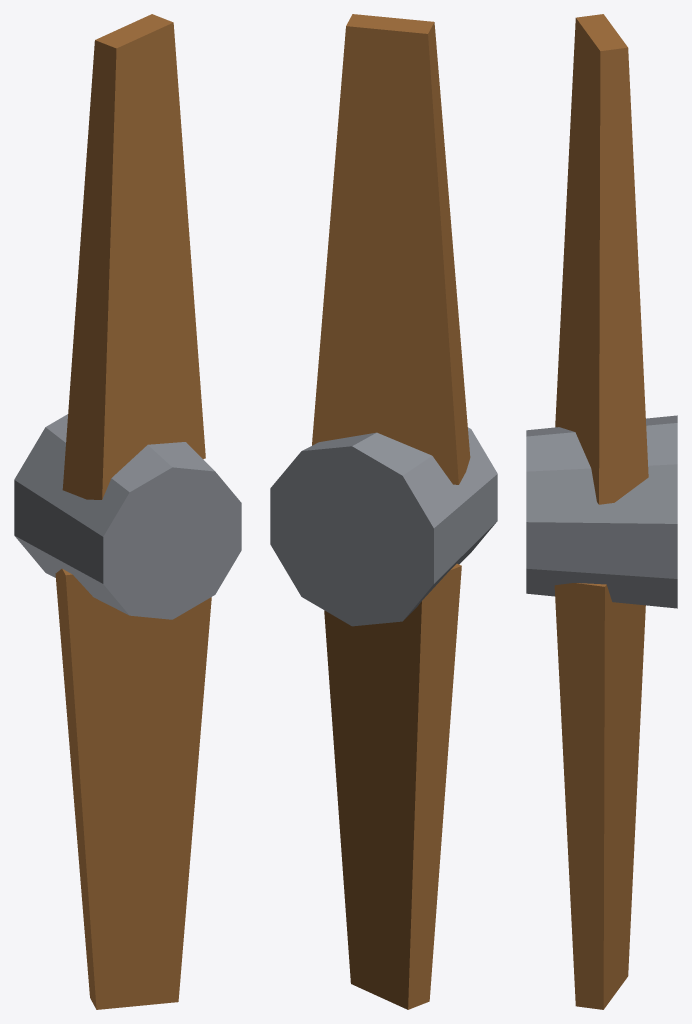
File: propeller.glb
3 renders of one model, left to right at view 1: azimuth 30°, elevation 25°; view 2: azimuth 150°, elevation 25°; view 3: azimuth 270°, elevation 25°, orthographic.
Parts seen in each view (by area): view 1: prop_blade_0, prop_blade_1, prop_hub; view 2: prop_blade_0, prop_blade_1, prop_hub; view 3: prop_blade_0, prop_blade_1, prop_hub.
Boxes of the visible parts, <box> form: prop_blade_0: <box>62,14,205,499</box>; prop_blade_1: <box>55,568,211,1009</box>; prop_hub: <box>14,414,241,619</box>; prop_blade_0: <box>312,14,470,484</box>; prop_blade_1: <box>324,563,461,1009</box>; prop_hub: <box>270,427,497,626</box>; prop_blade_0: <box>555,14,648,504</box>; prop_blade_1: <box>554,583,645,1009</box>; prop_hub: <box>526,415,677,608</box>.
Size of the model in its own units: 0.2473 by 1.4 by 0.2.
